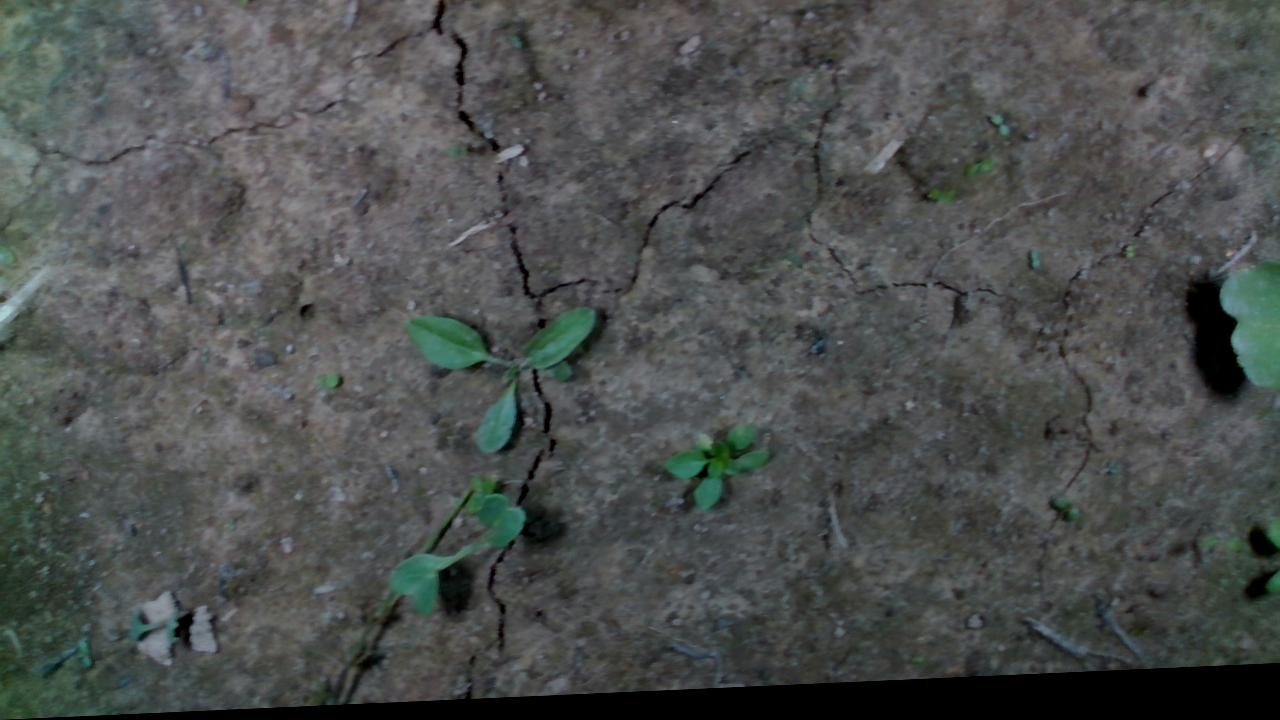weed: (403, 309, 601, 466), (307, 371, 343, 397), (987, 119, 1009, 147), (1028, 257, 1040, 279), (1122, 253, 1136, 270)
